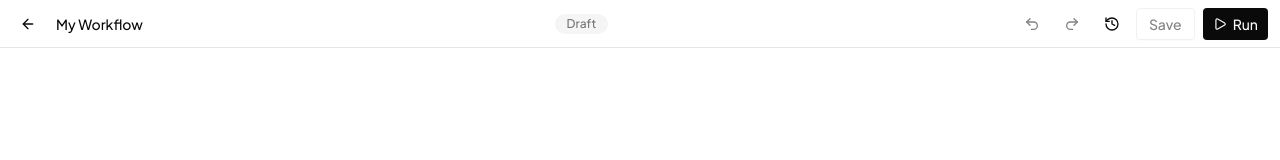
Test: CanvasToolbar › clicking the name switches to an editable input
Click the button "My Workflow".
click(99, 24)  # box [52,14,147,34]
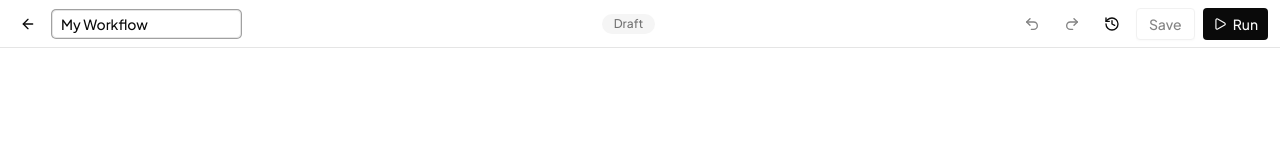
expect the field holds "My Workflow": met, box [52,10,241,38]
